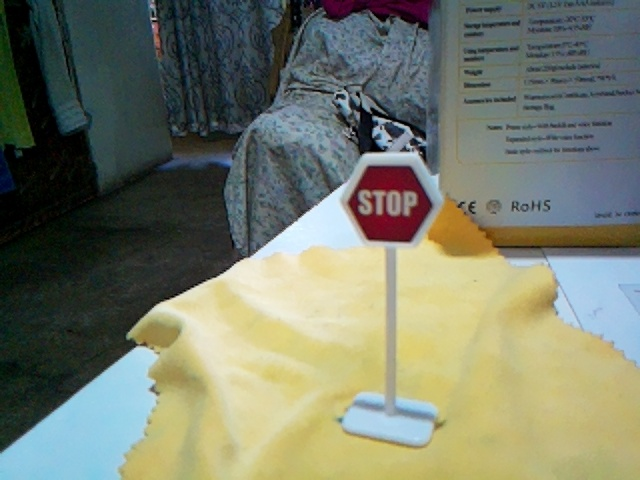stop_sign: (342, 153, 442, 243)
